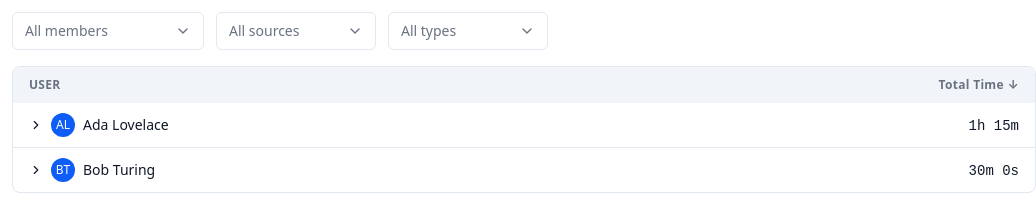
Test: MemberTimeReport (CR-06) › sorts members by total when the header is clicked
Check: the row "AL Ada Lovelace 1h 15m" is shown, box [13,103,1035,148]
What coordinates should you click on to do the following:
click the button "Total Time ↓"
I would click on:
 (979, 85)
Its box is [939,77,1019,93].
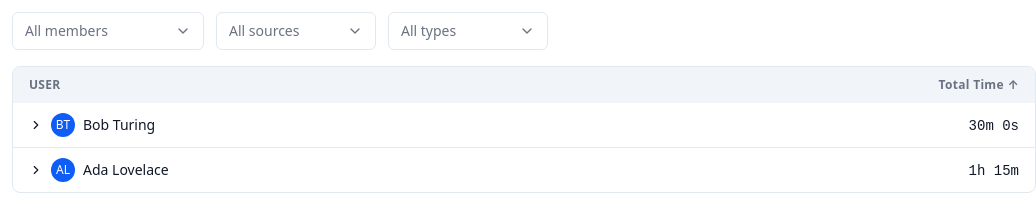
Check: the row "BT Bob Turing 30m 0s" is shown, box [13,103,1035,148]
